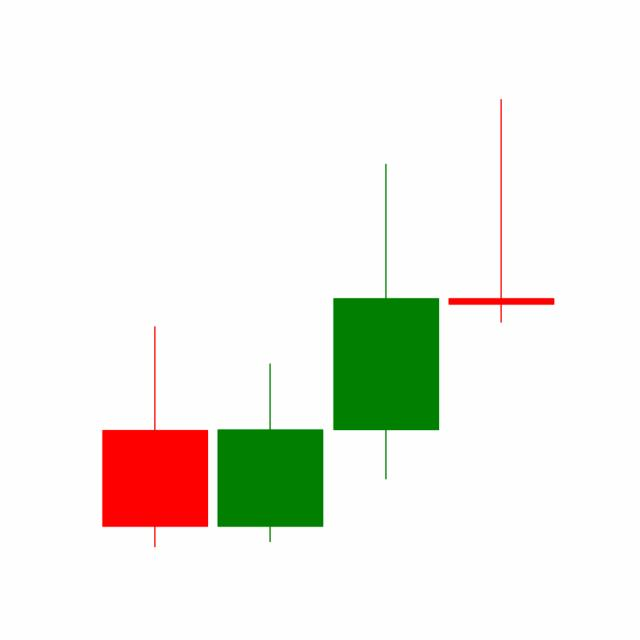Gravestone Doji: (443, 97, 559, 326)
